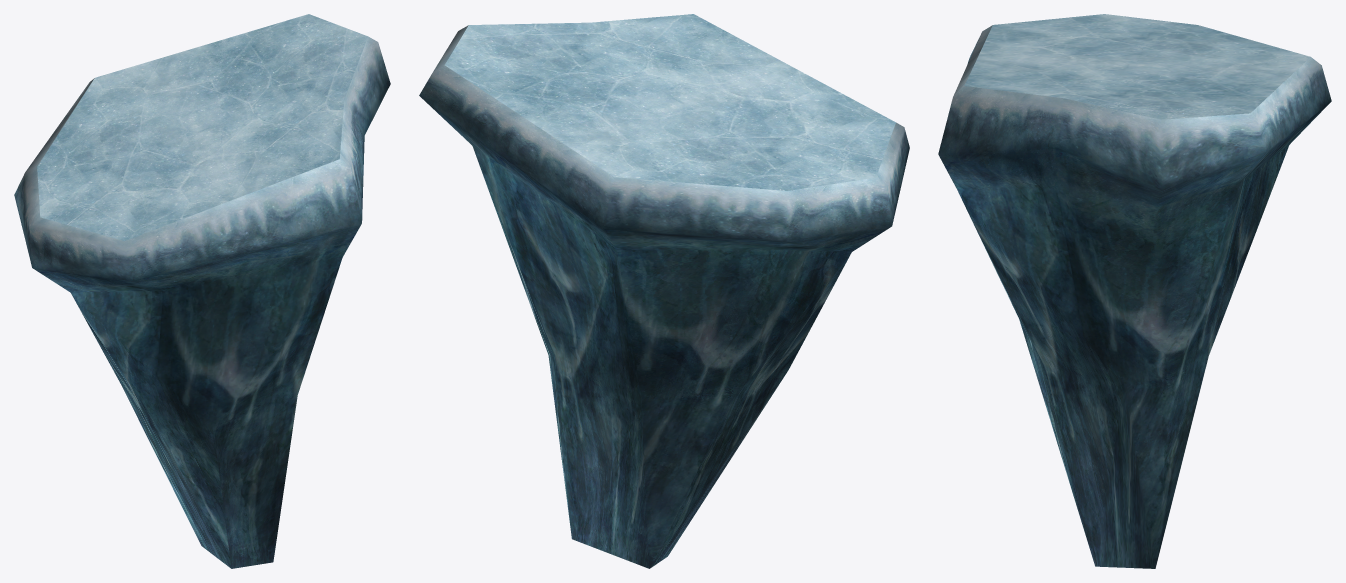
The model's file is environment_stone_dabingshi_001_c.FBX.
3 renders of one model, left to right at view 1: azimuth 30°, elevation 25°; view 2: azimuth 150°, elevation 25°; view 3: azimuth 270°, elevation 25°, orthographic. The views are drawn at different scales.
Visible parts, largest first — view 1: environment_stone_dabingshi_001_b, environment_stone_dabingshi_001_a; view 2: environment_stone_dabingshi_001_b, environment_stone_dabingshi_001_a; view 3: environment_stone_dabingshi_001_b, environment_stone_dabingshi_001_a.
Part boxes in pixels (x1=…): environment_stone_dabingshi_001_b: x1=14, y1=36, x2=390, y2=568; environment_stone_dabingshi_001_a: x1=37, y1=14, x2=367, y2=240; environment_stone_dabingshi_001_b: x1=419, y1=25, x2=909, y2=568; environment_stone_dabingshi_001_a: x1=445, y1=14, x2=895, y2=190; environment_stone_dabingshi_001_b: x1=938, y1=25, x2=1331, y2=568; environment_stone_dabingshi_001_a: x1=964, y1=14, x2=1310, y2=119.
Size of the model in its own units: 842 by 984 by 681.
2 materials, 2 textured.
